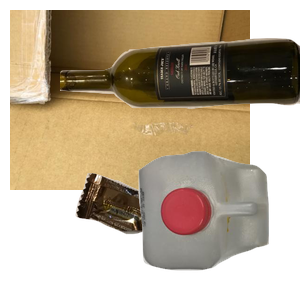cardboard: (10, 10, 250, 190)
glass: (60, 36, 300, 147)
plastic: (136, 149, 300, 300)
trash: (73, 171, 242, 300)
